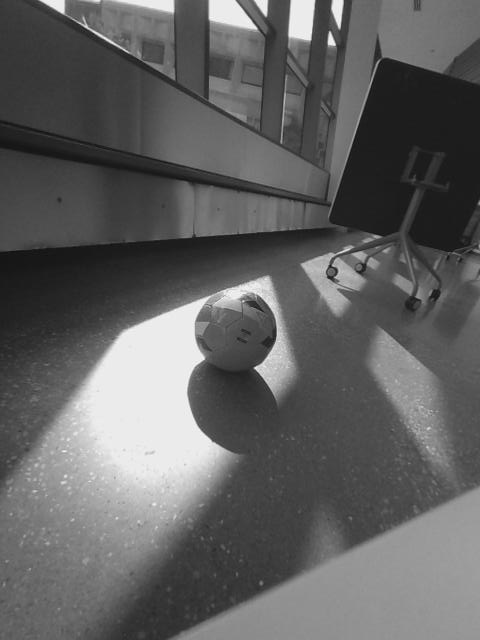ball: (191, 284, 281, 373)
